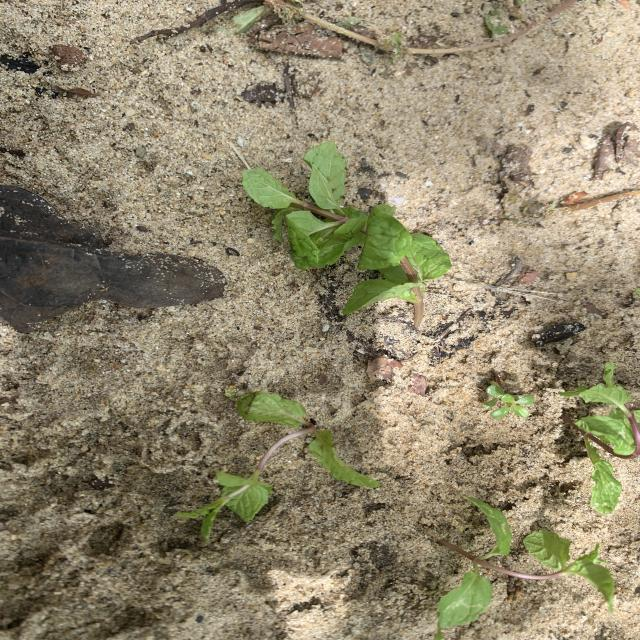crop: (243, 142, 452, 327), (176, 392, 379, 540), (437, 497, 614, 613), (560, 362, 640, 514), (435, 569, 491, 640)
weed: (483, 375, 534, 419)
